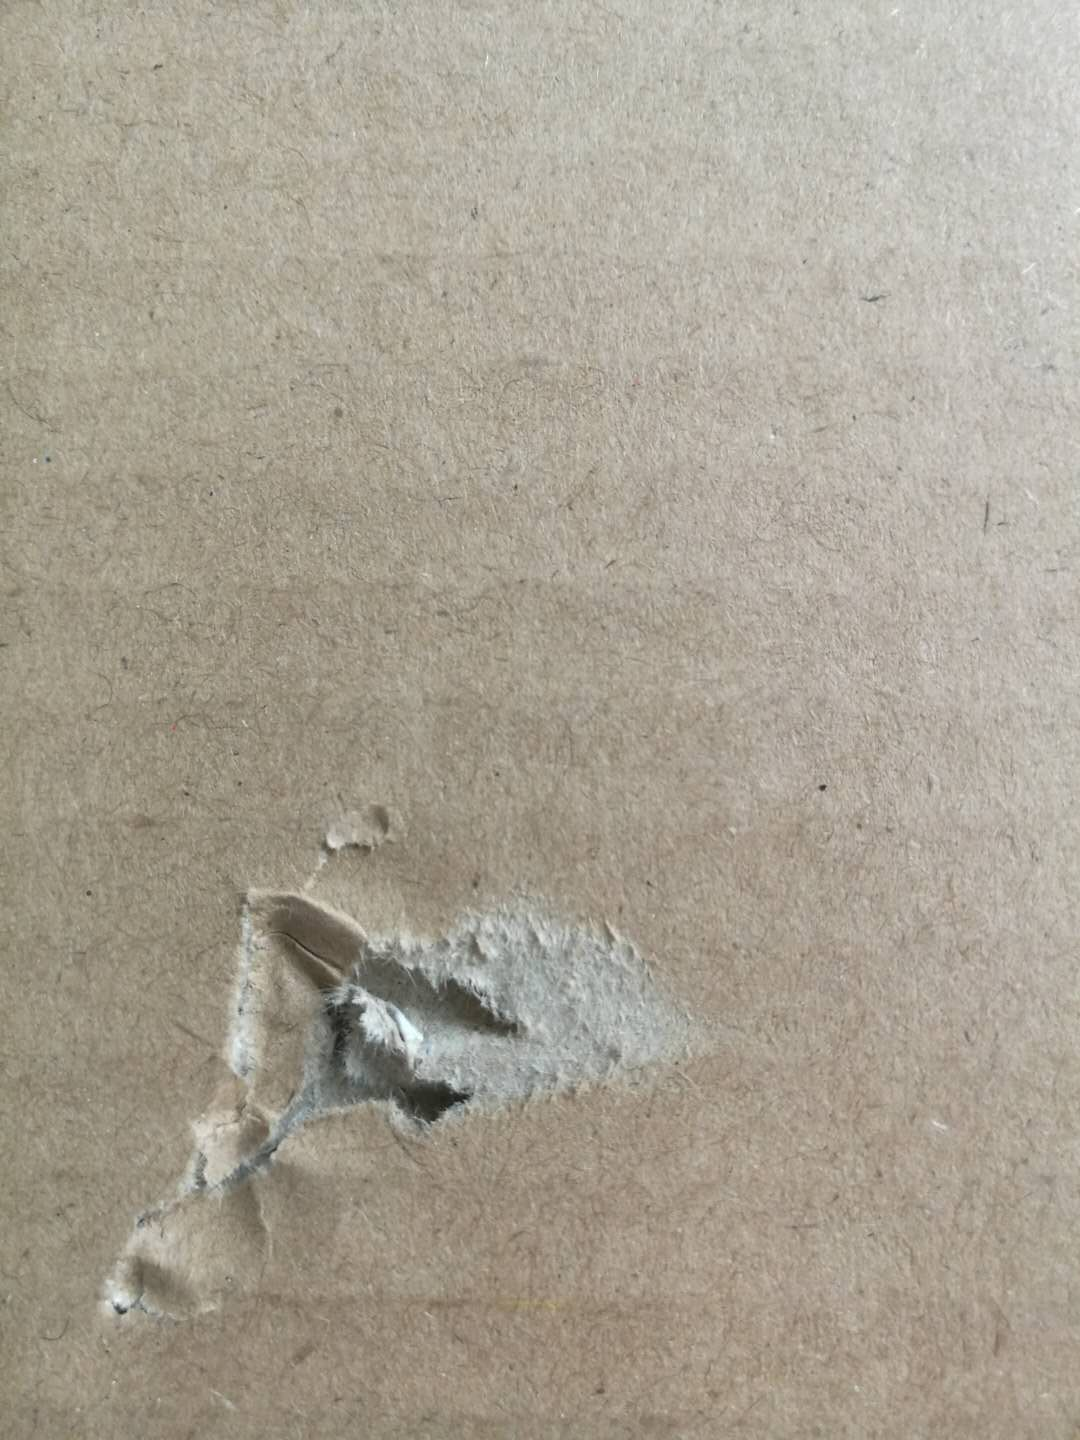defect: (71, 768, 752, 1341)
